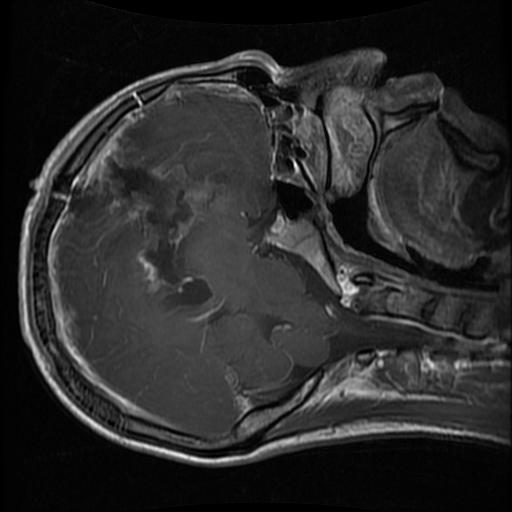glioma: (70, 157, 230, 314)
